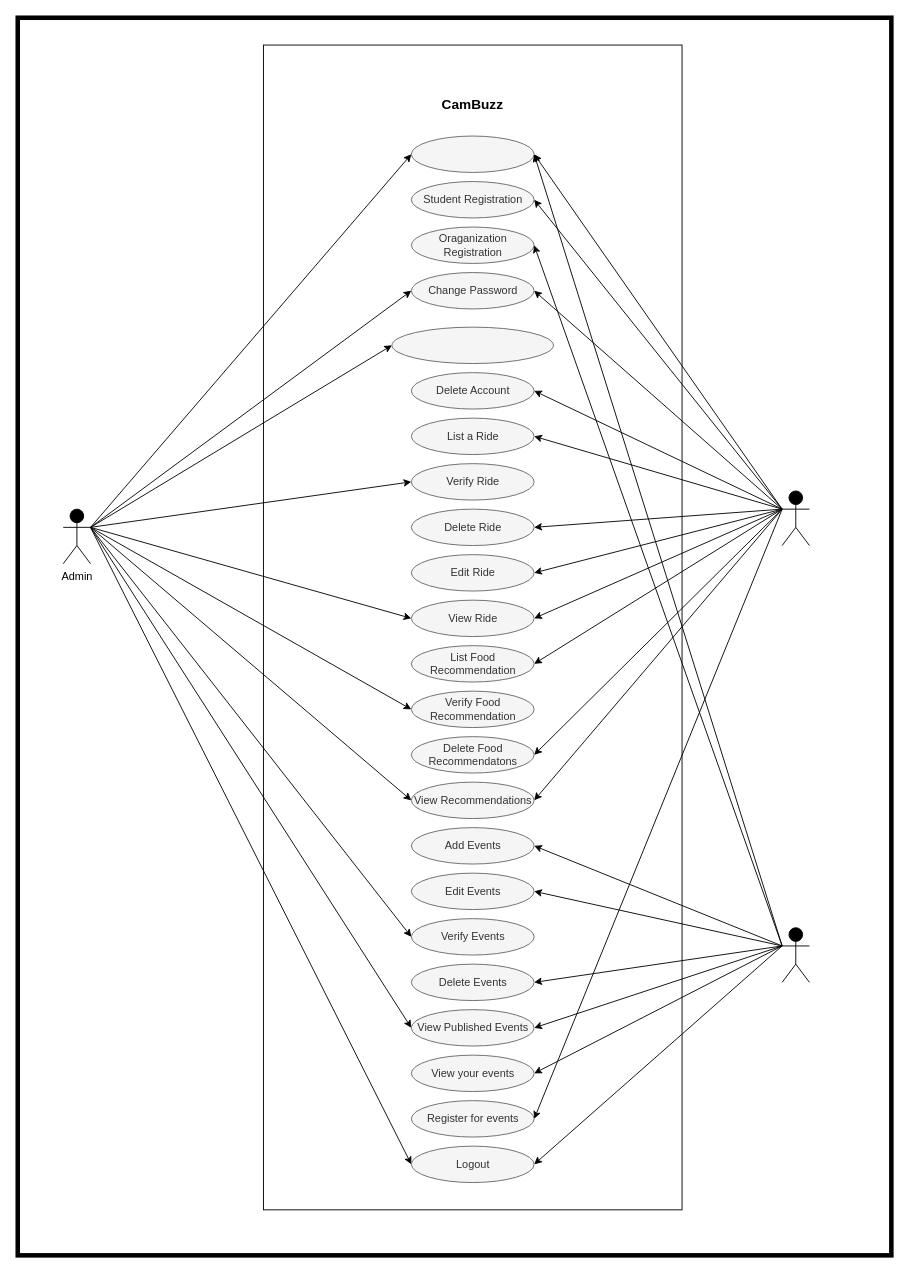
This 909x1273 diagram has some shape labels left out. The shapes that lost their labels are listed below. From the top down, each one's box as (x1, y1, x2, y2) in pixels, then its label:
(410, 135, 534, 172): Login
(391, 326, 553, 364): Create , Delete , Update All data
(781, 490, 809, 546): Student
(781, 927, 809, 982): Organisation/Club
